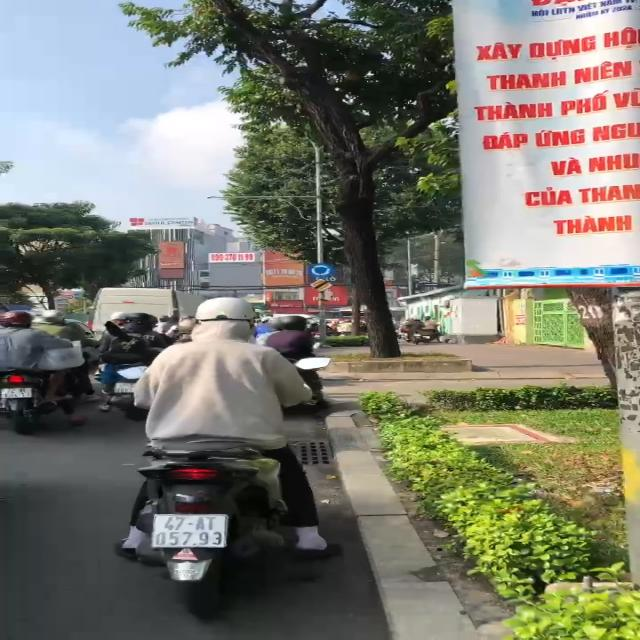Bien bao noi giao nhau chay theo vong xuyen: (305, 261, 338, 278)
